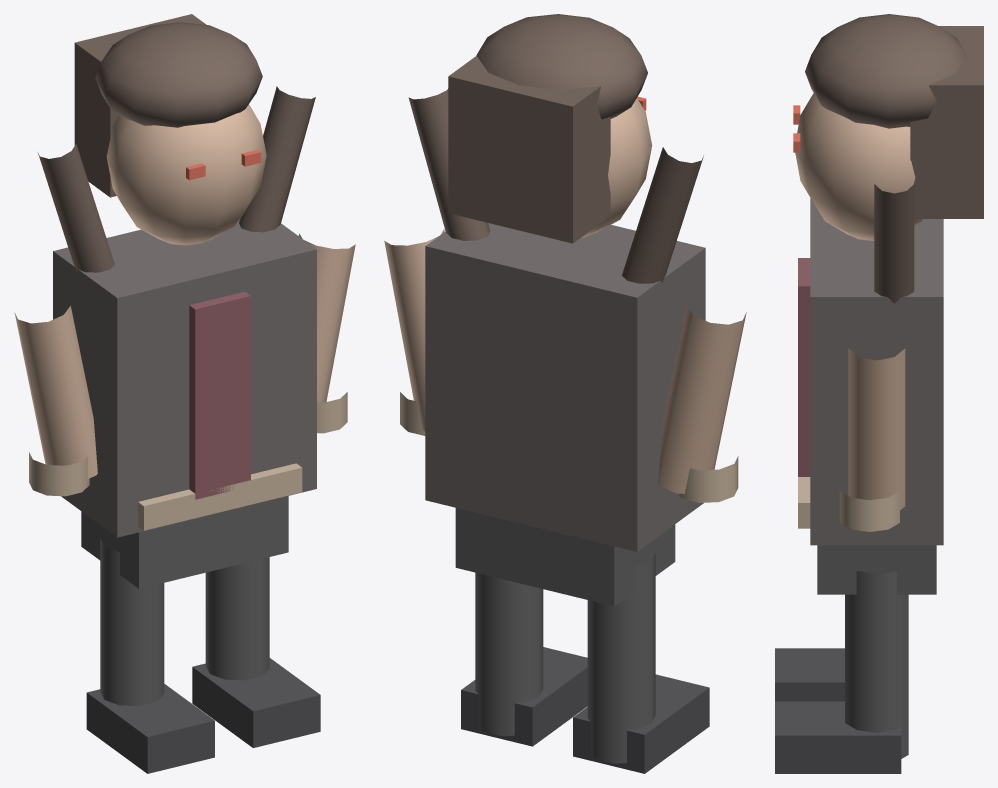
Rendered from silco.glb.
3 views of the same model, side by side, from view 1: azimuth 30°, elevation 25°; view 2: azimuth 150°, elevation 25°; view 3: azimuth 270°, elevation 25° (orthographic). The views are drawn at different scales.
Parts seen in each view (by area): view 1: Torso, Head, HairCap, Vest, Pelvis, ArmL, LegL, FootR, FootL, LegR, HairBack, HairR (+5 smaller); view 2: Torso, HairBack, Pelvis, HairCap, LegL, ArmL, LegR, FootL, HairL, FootR, ArmR, Head (+3 smaller); view 3: Torso, HairCap, Head, HairBack, LegR, ArmR, FootR, Pelvis, HairR, FootL, Vest, CuffR (+1 smaller).
Part boxes in pixels (box(x1,y1,x2,y2)): Torso: box(53, 219, 316, 537); Head: box(106, 104, 266, 245); HairCap: box(95, 22, 262, 127); Vest: box(189, 291, 250, 499); Pelvis: box(81, 496, 288, 588); ArmL: box(14, 306, 97, 478); LegL: box(100, 539, 164, 706); FootR: box(192, 658, 320, 747); FootL: box(86, 684, 214, 773); LegR: box(205, 557, 269, 680); HairBack: box(74, 14, 206, 197); HairR: box(239, 86, 315, 232); Torso: box(425, 223, 705, 551); HairBack: box(448, 56, 610, 243); Pelvis: box(455, 508, 675, 606); HairCap: box(476, 14, 647, 119); LegL: box(587, 553, 655, 763); ArmL: box(658, 306, 746, 493); LegR: box(475, 572, 543, 736); FootL: box(573, 674, 709, 773); HairL: box(622, 147, 703, 283); FootR: box(461, 647, 587, 746); ArmR: box(384, 229, 444, 431); Head: box(581, 98, 652, 237); Torso: box(810, 198, 943, 545); HairCap: box(805, 14, 967, 128); Head: box(795, 93, 922, 240); HairBack: box(910, 26, 983, 218); LegR: box(845, 571, 908, 758); ArmR: box(848, 348, 905, 510); FootR: box(775, 701, 901, 773); Pelvis: box(817, 545, 936, 594); HairR: box(874, 184, 914, 303); FootL: box(775, 648, 844, 701); Vest: box(798, 258, 810, 476); CuffR: box(839, 491, 899, 531).
Bounding box in the file's own units: 1.14 × 2.21 × 0.595.
